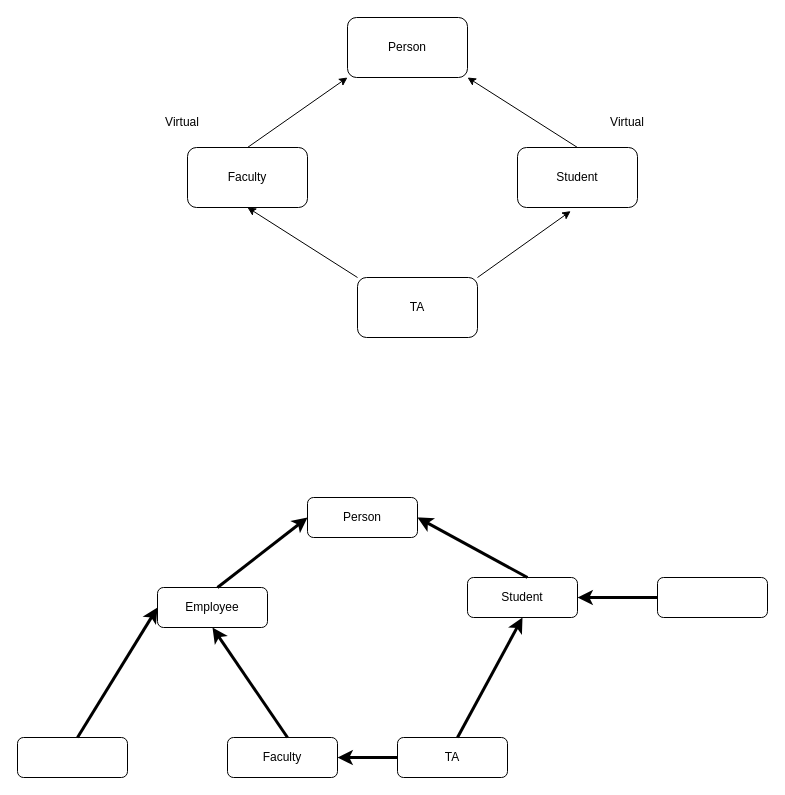
Image size: 785x795. Some labels were removed from this diagram. The shapes that lost their labels are listed below. From the top down, each one's centre as x and y in pixels, then its label:
the point at 712,597: Grad Student
the point at 72,757: Officer
